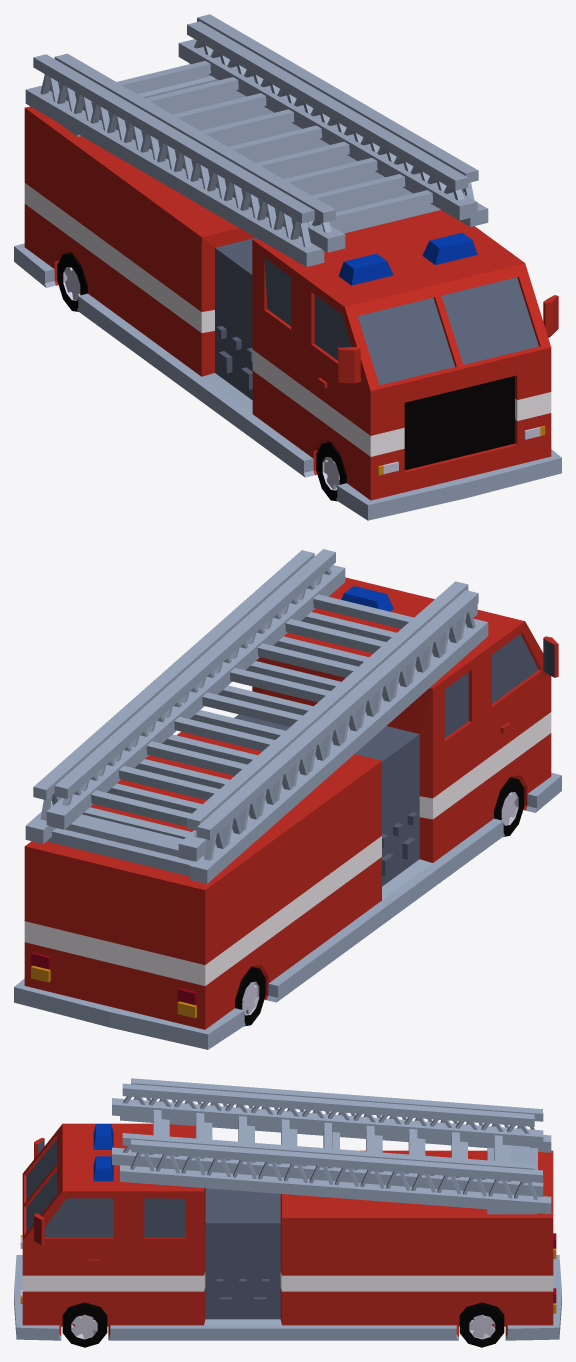
File: Firetruck.glb
3 renders of one model, top to bottom at view 1: azimuth 30°, elevation 25°; view 2: azimuth 150°, elevation 25°; view 3: azimuth 270°, elevation 25°, orthographic. The views are drawn at different scales.
Parts seen in each view (by area): view 1: Firetruck, Firetruck wheel front right, Firetruck wheel rear right; view 2: Firetruck, Firetruck wheel rear right, Firetruck wheel front right; view 3: Firetruck, Firetruck wheel front left, Firetruck wheel rear left.
Part boxes in pixels (box(x1,y1,x2,y2)): Firetruck: box(14, 14, 561, 520); Firetruck wheel front right: box(316, 441, 346, 501); Firetruck wheel rear right: box(57, 252, 87, 311); Firetruck: box(14, 549, 561, 1049); Firetruck wheel rear right: box(235, 966, 265, 1026); Firetruck wheel front right: box(494, 777, 524, 836); Firetruck: box(14, 1078, 561, 1340); Firetruck wheel front left: box(62, 1302, 107, 1347); Firetruck wheel rear left: box(459, 1302, 504, 1347).
Bounding box in the file's own units: 341 × 393 × 960.
